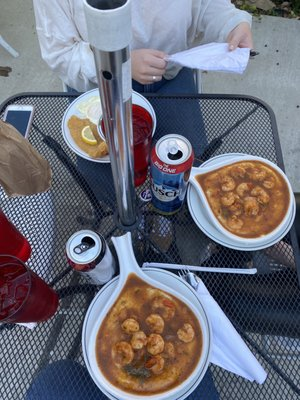sushi: (81, 269, 212, 400), (186, 156, 296, 251)
